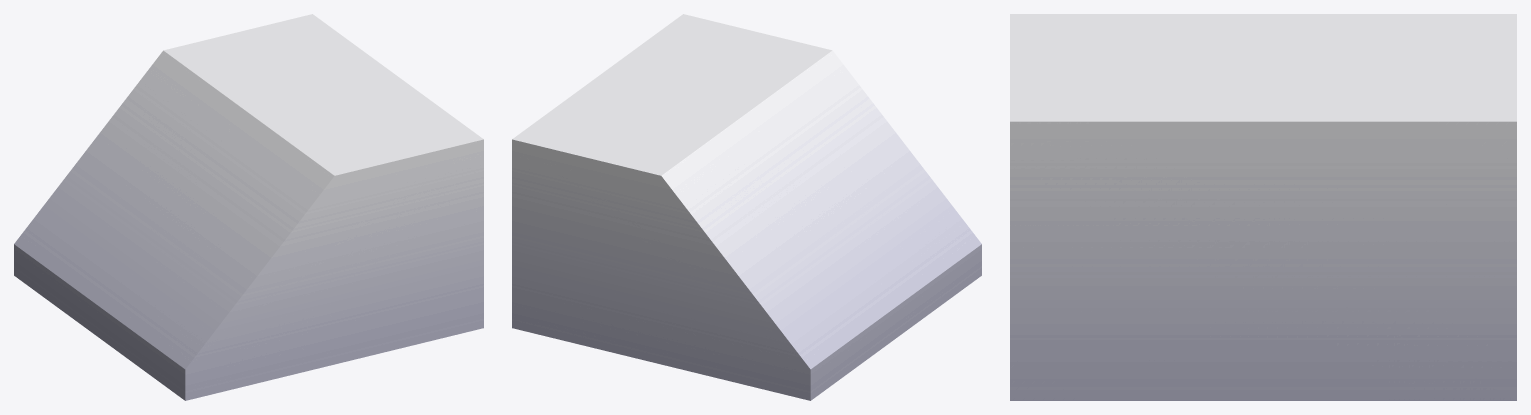
File: brick-kit--none-lq-brick-slope-2x2.glb
3 renders of one model, left to right at view 1: azimuth 30°, elevation 25°; view 2: azimuth 150°, elevation 25°; view 3: azimuth 270°, elevation 25°, orthographic. The views are drawn at different scales.
Visible parts, largest first — view 1: none-lq-brick-slope-2x2; view 2: none-lq-brick-slope-2x2; view 3: none-lq-brick-slope-2x2.
Part boxes in pixels (bbox=[...]): none-lq-brick-slope-2x2: bbox=[14, 14, 483, 400]; none-lq-brick-slope-2x2: bbox=[512, 14, 981, 400]; none-lq-brick-slope-2x2: bbox=[1010, 14, 1516, 400].
Bounding box in the file's own units: 0.159 × 0.096 × 0.158.
Materials: 1 (1 with a texture image).
